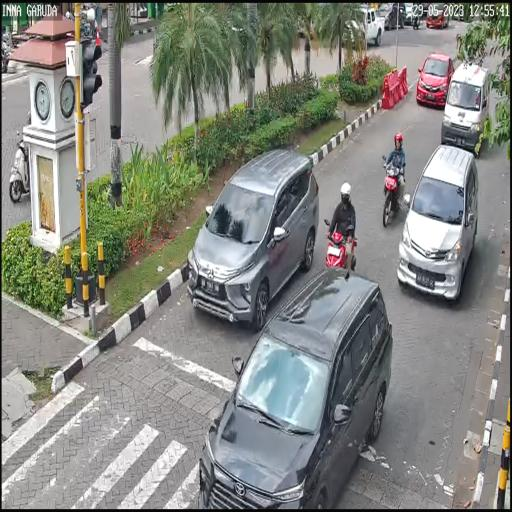mobil: (196, 266, 387, 508), (189, 149, 315, 321), (396, 146, 478, 294), (442, 64, 490, 149), (416, 54, 454, 108)
motor: (323, 217, 358, 274), (382, 154, 406, 228)
